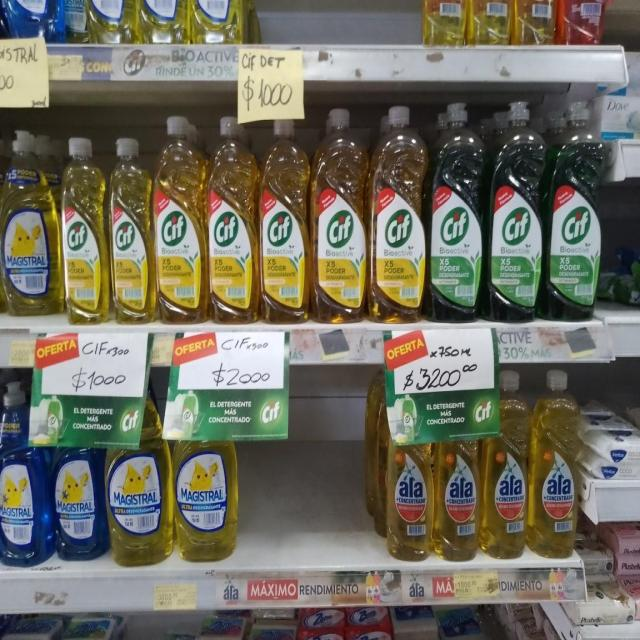ala_conc_amarillo: (530, 367, 579, 560), (482, 368, 528, 560), (436, 433, 480, 562), (386, 444, 434, 562), (419, 0, 469, 47), (515, 0, 558, 47), (471, 0, 513, 47)
ala_conc_rojo: (561, 0, 610, 47)
cif_conc_bot_amarilla: (370, 103, 426, 326), (311, 105, 367, 324), (154, 113, 205, 324), (259, 113, 309, 324), (208, 112, 256, 323), (62, 134, 107, 325), (110, 134, 152, 325)
cif_conc_botella_verde: (546, 96, 602, 320), (488, 98, 543, 322), (429, 101, 484, 322)
magistral_con_amarillo: (0, 128, 60, 318), (106, 443, 171, 567), (174, 437, 238, 562), (191, 0, 244, 45), (138, 0, 188, 45), (89, 0, 135, 45), (53, 0, 88, 44)
magistral_con_azul: (0, 380, 50, 568), (53, 443, 104, 561), (1, 0, 49, 39), (1, 613, 59, 640)
